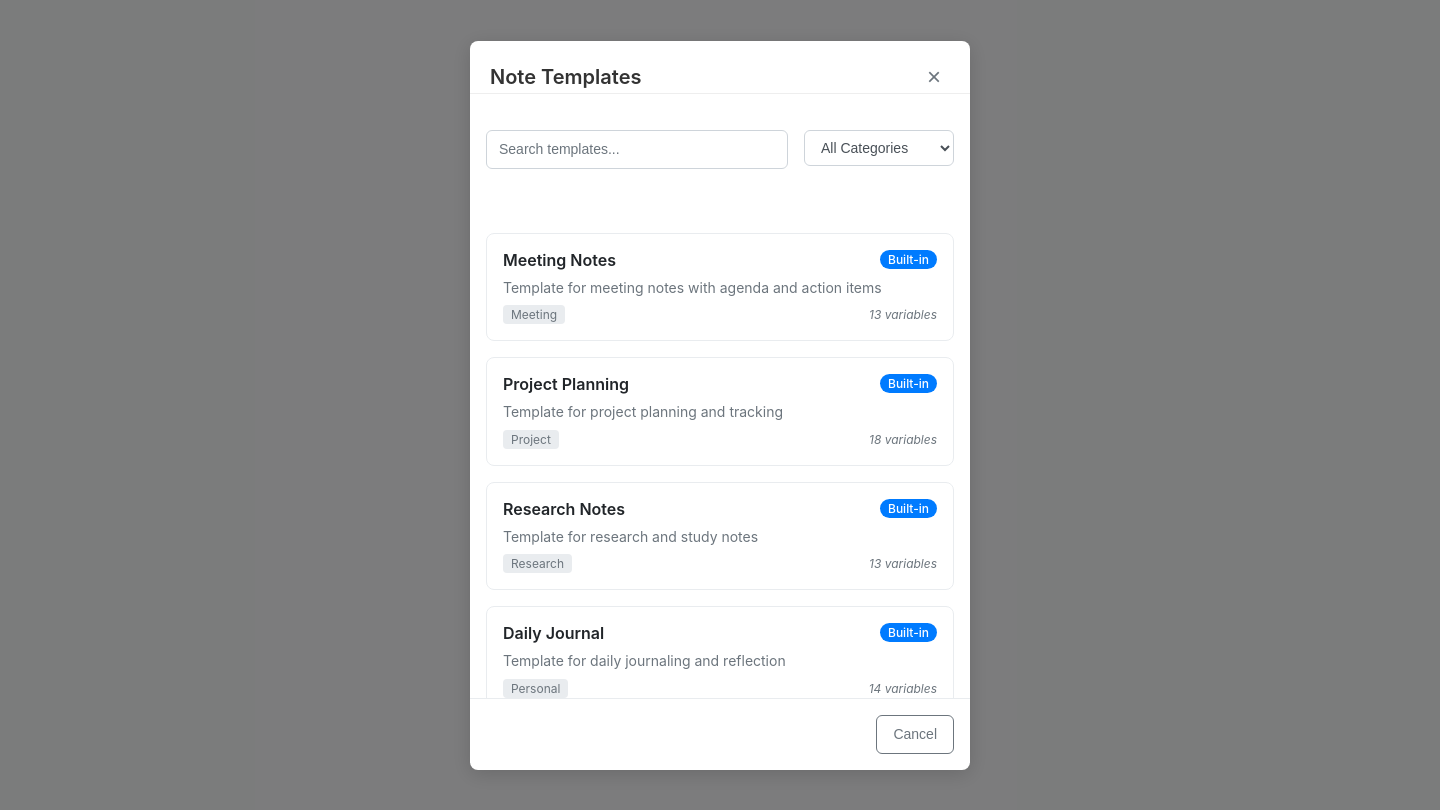
Test: NoteTemplates › shows variable input fields for selected template
Click the heading "Meeting Notes" at (560, 260), box [503,250,616,270]
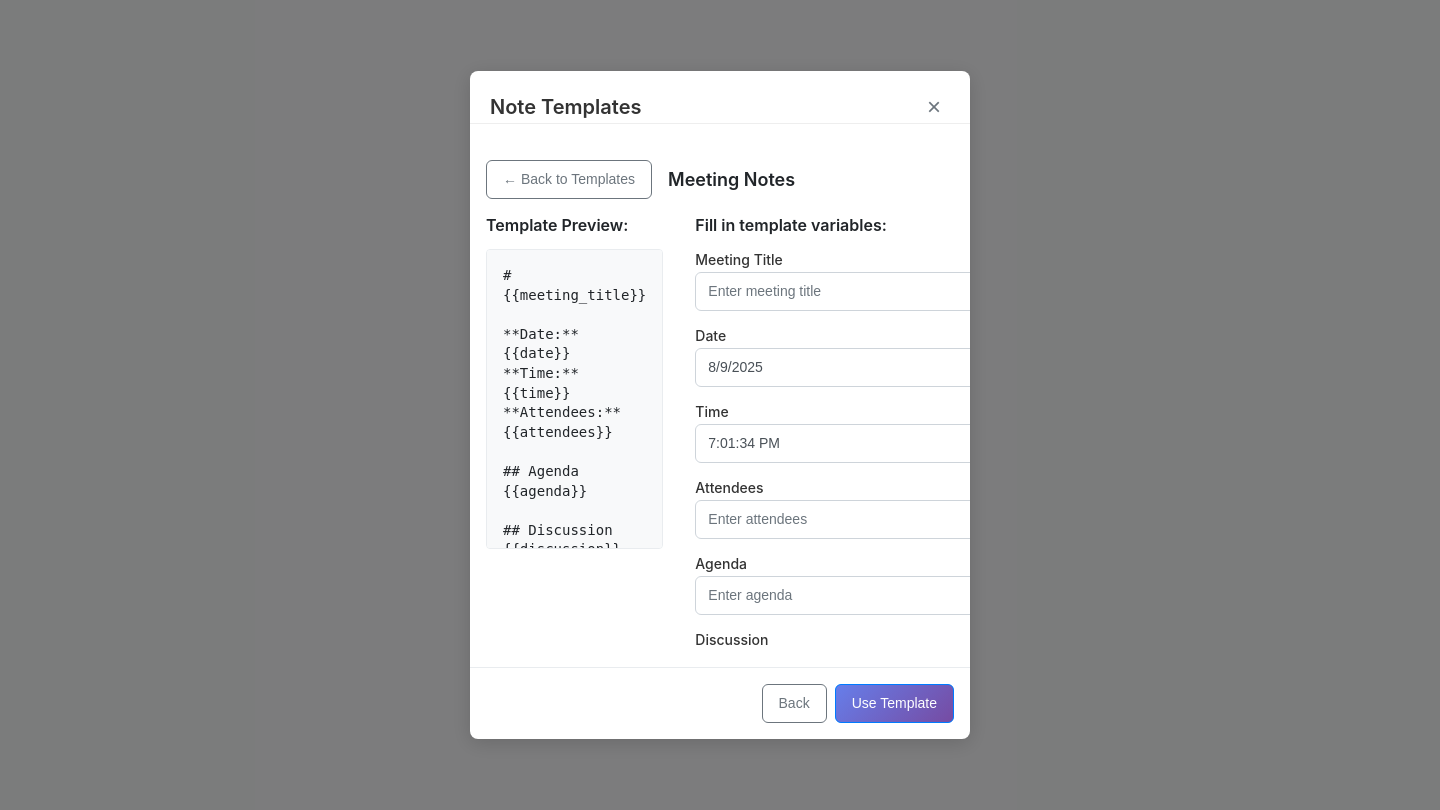
Result: the text "Meeting Title" is shown at [695,251,783,268]
Result: the text "Date" is shown at [695,327,726,344]
Result: the text "Time" is shown at [695,403,729,420]
